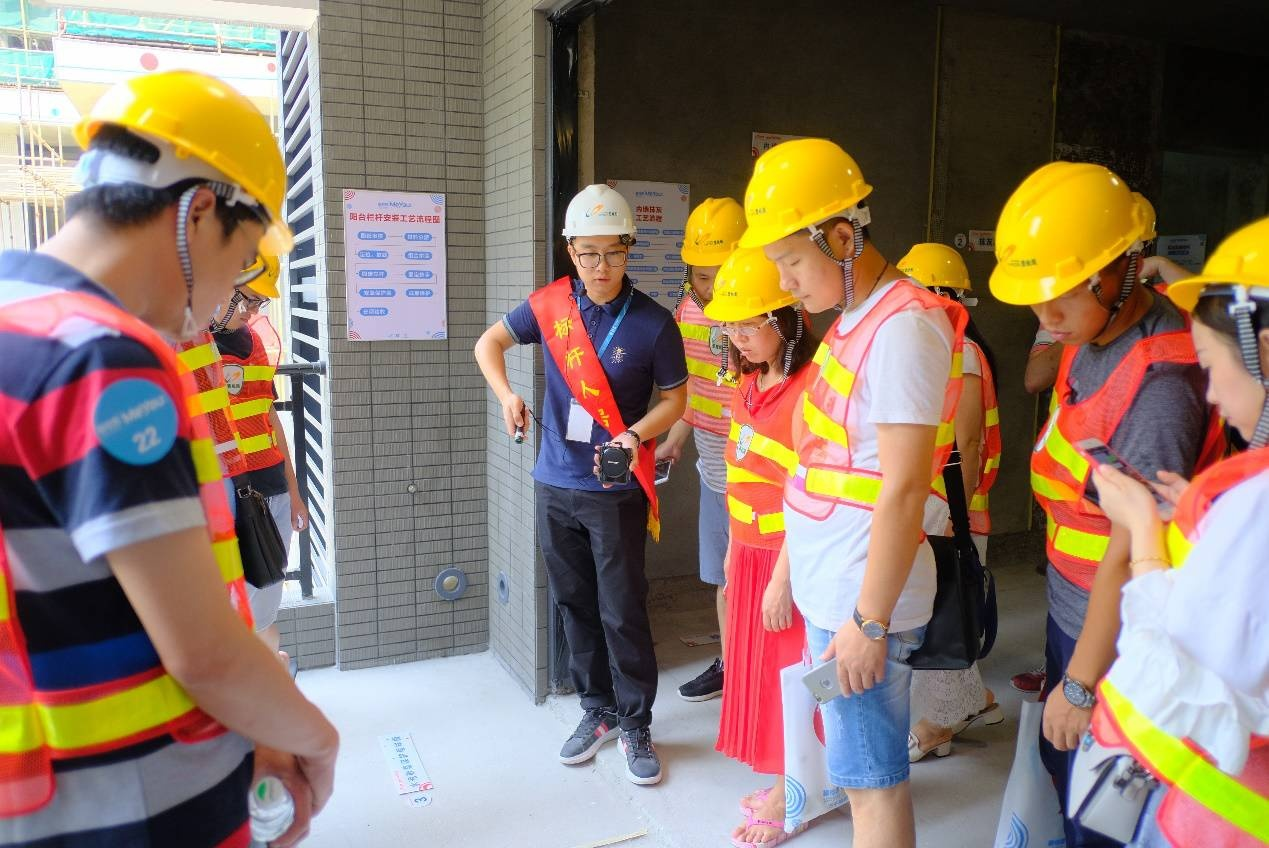white: (554, 182, 642, 298)
yellow: (61, 66, 251, 335), (992, 160, 1151, 341), (744, 138, 868, 315), (1177, 224, 1269, 430), (707, 252, 804, 363), (678, 194, 749, 297), (214, 242, 282, 336)
